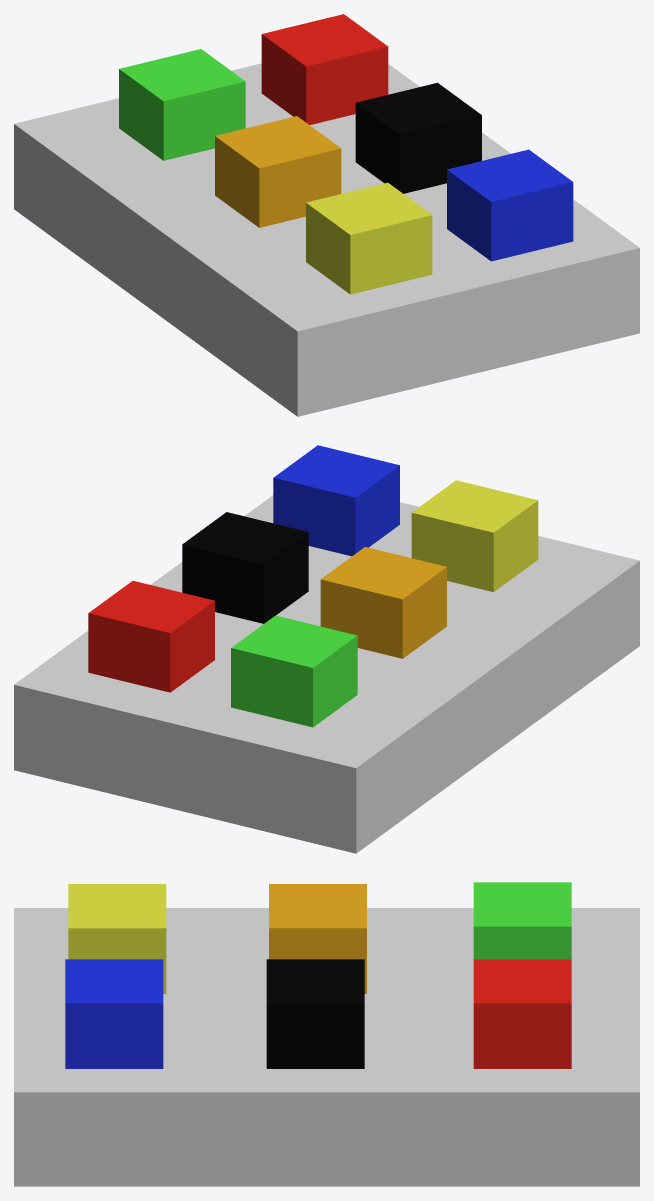
The model's file is codeCouleur.fbx.
3 renders of one model, top to bottom at view 1: azimuth 30°, elevation 25°; view 2: azimuth 150°, elevation 25°; view 3: azimuth 270°, elevation 25°, orthographic. The views are drawn at different scales.
Parts seen in each view (by area): view 1: Cube, Cube.006, Cube.001, Cube.003, Cube.004, Cube.005, Cube.002; view 2: Cube, Cube.004, Cube.003, Cube.002, Cube.006, Cube.005, Cube.001; view 3: Cube, Cube.002, Cube.003, Cube.001, Cube.004, Cube.006, Cube.005.
Boxes of the visible parts, x1=… form: Cube: x1=14, y1=63, x2=639, y2=416; Cube.006: x1=306, y1=182, x2=432, y2=294; Cube.001: x1=447, y1=149, x2=573, y2=261; Cube.003: x1=261, y1=14, x2=388, y2=124; Cube.004: x1=119, y1=49, x2=245, y2=160; Cube.005: x1=215, y1=116, x2=341, y2=227; Cube.002: x1=355, y1=82, x2=481, y2=193; Cube: x1=14, y1=495, x2=639, y2=853; Cube.004: x1=231, y1=615, x2=357, y2=727; Cube.003: x1=88, y1=581, x2=214, y2=692; Cube.002: x1=182, y1=512, x2=308, y2=623; Cube.006: x1=411, y1=480, x2=538, y2=592; Cube.005: x1=320, y1=547, x2=446, y2=658; Cube.001: x1=273, y1=445, x2=399, y2=556; Cube: x1=14, y1=908, x2=639, y2=1186; Cube.002: x1=266, y1=959, x2=364, y2=1068; Cube.003: x1=473, y1=959, x2=571, y2=1068; Cube.001: x1=65, y1=959, x2=163, y2=1068; Cube.004: x1=473, y1=882, x2=571, y2=959; Cube.006: x1=68, y1=884, x2=166, y2=993; Cube.005: x1=269, y1=884, x2=366, y2=993.
Bounding box in the file's own units: 200 × 80.94 × 287.
